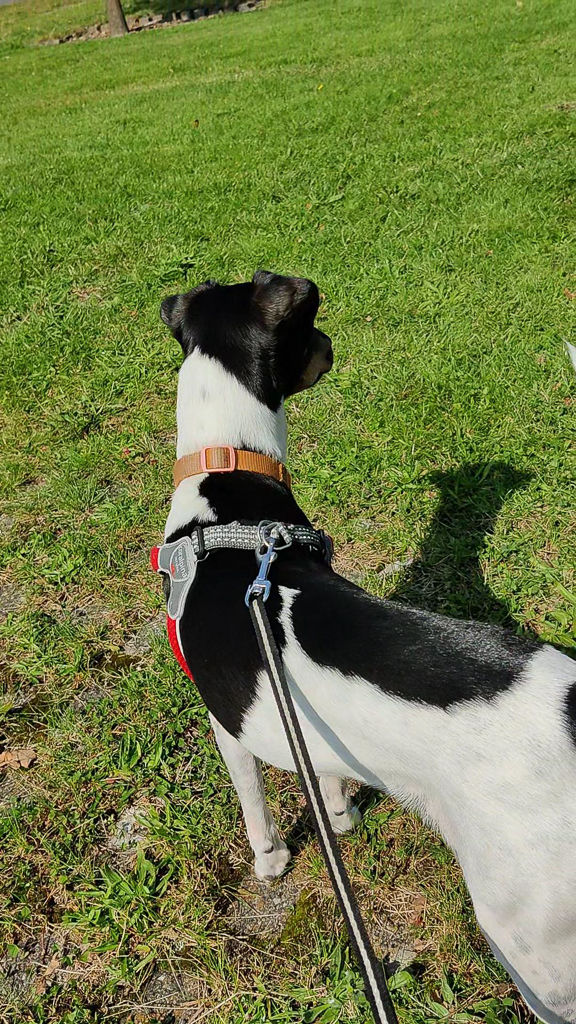Dog: (135, 263, 576, 1024)
